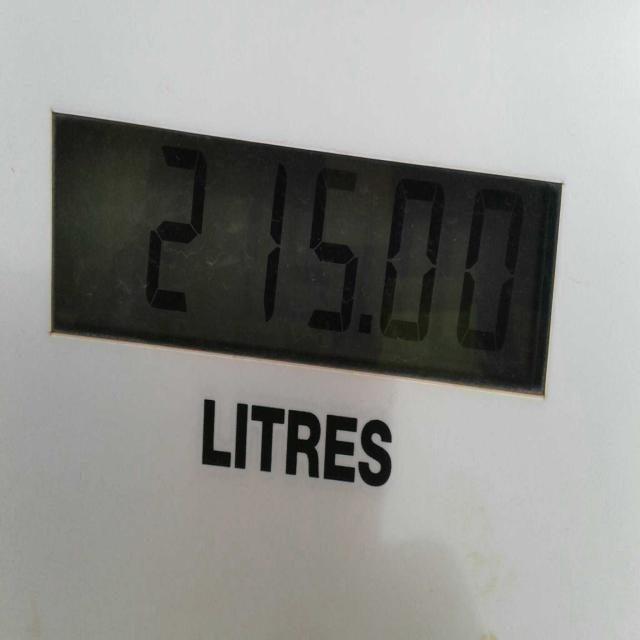.: (354, 302, 383, 369)
0: (372, 153, 456, 374), (453, 181, 533, 392)
1: (245, 143, 299, 349)
2: (142, 138, 222, 343)
5: (301, 132, 358, 353)
